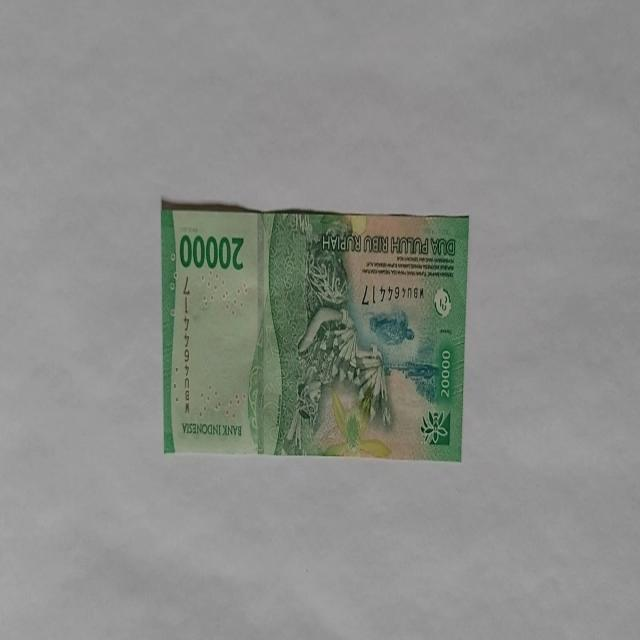dua puluh ribu rupiah: (160, 202, 470, 460), (248, 210, 392, 456)
